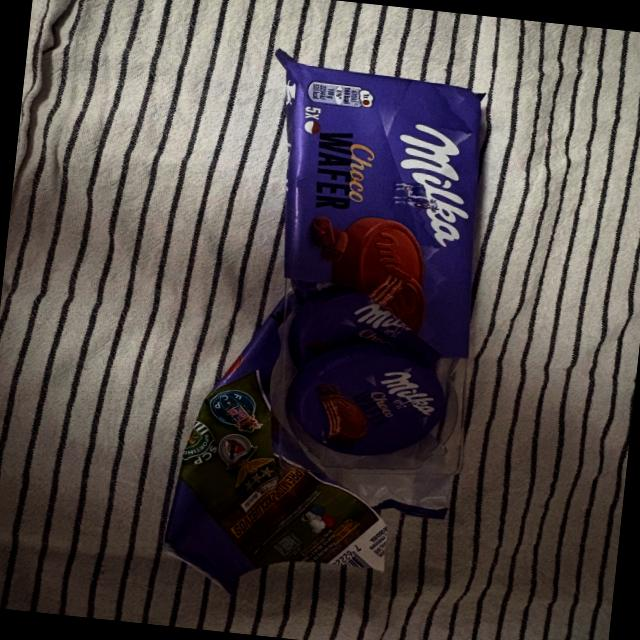damaged_package: (152, 41, 498, 620)
